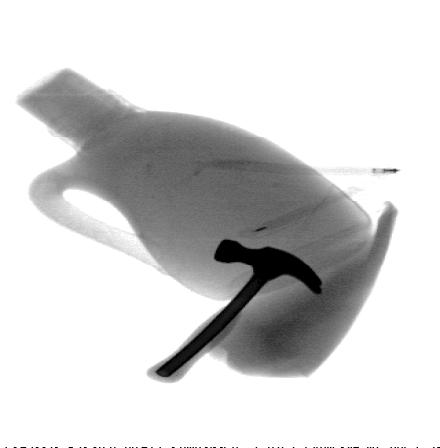Hammer: (144, 238, 323, 383)
